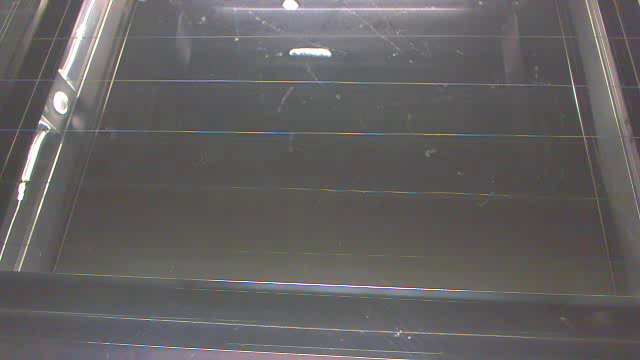alpha: (287, 46, 333, 58), (281, 1, 301, 10)
